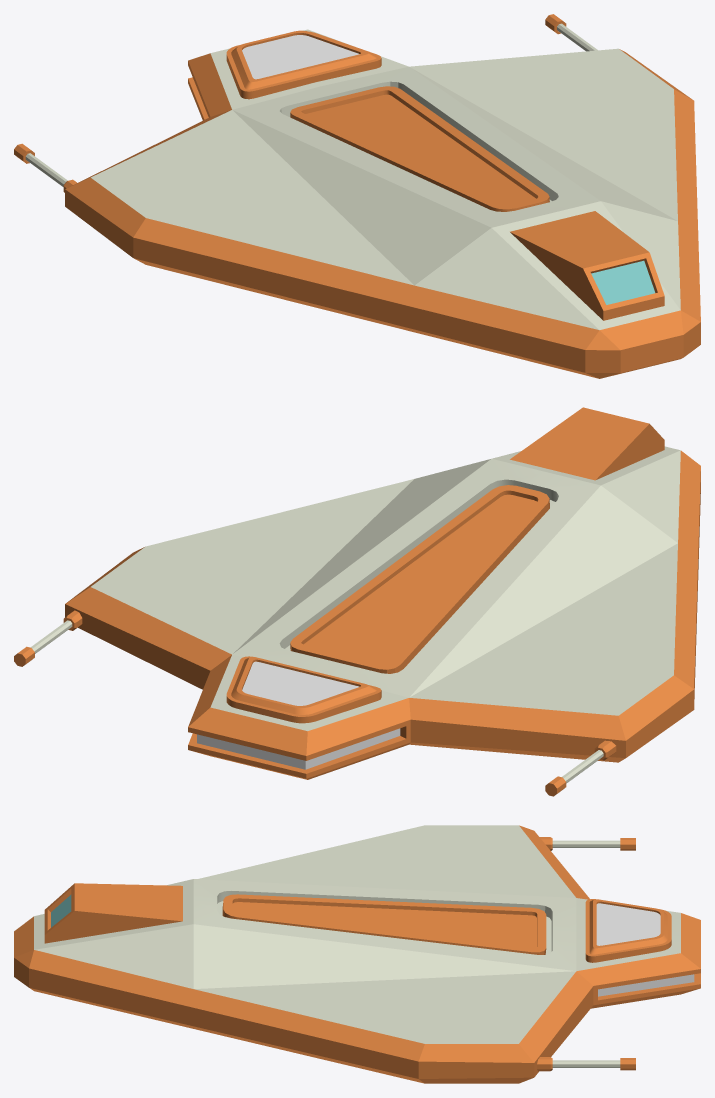
Rendered from ship.fbx.
3 renders of one model, top to bottom at view 1: azimuth 30°, elevation 25°; view 2: azimuth 150°, elevation 25°; view 3: azimuth 270°, elevation 25°, orthographic. The views are drawn at different scales.
Visible parts, largest first — view 1: ship; view 2: ship; view 3: ship.
Boxes of the visible parts, x1=… form: ship: x1=14, y1=14, x2=700, y2=378; ship: x1=14, y1=407, x2=700, y2=796; ship: x1=14, y1=825, x2=700, y2=1083.
Bounding box in the file's own units: 1.58 × 0.2817 × 1.98.
